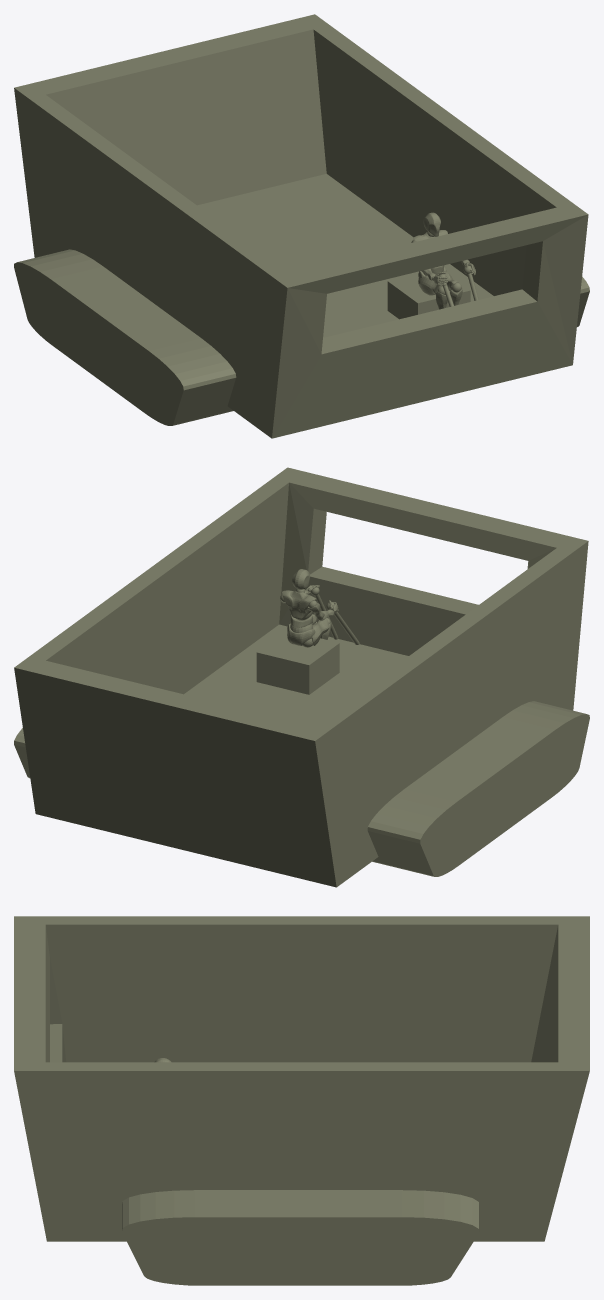
The model's file is tracked.glb.
3 renders of one model, top to bottom at view 1: azimuth 30°, elevation 25°; view 2: azimuth 150°, elevation 25°; view 3: azimuth 270°, elevation 25°, orthographic. The views are drawn at different scales.
Parts seen in each view (by area): view 1: xier120.tracked.mesh.002, xier120.tracked.mesh.005, xier120.tracked.mesh.000; view 2: xier120.tracked.mesh.002, xier120.tracked.mesh.005, xier120.tracked.mesh.000; view 3: xier120.tracked.mesh.002.
Part boxes in pixels (bbox=[...]): xier120.tracked.mesh.002: bbox=[14, 14, 589, 438]; xier120.tracked.mesh.005: bbox=[387, 273, 470, 319]; xier120.tracked.mesh.000: bbox=[413, 212, 475, 309]; xier120.tracked.mesh.002: bbox=[14, 467, 589, 887]; xier120.tracked.mesh.005: bbox=[256, 630, 339, 694]; xier120.tracked.mesh.000: bbox=[280, 569, 337, 645]; xier120.tracked.mesh.002: bbox=[14, 916, 589, 1285].
Size of the model in its own units: 5.46 by 2.29 by 6.37.
